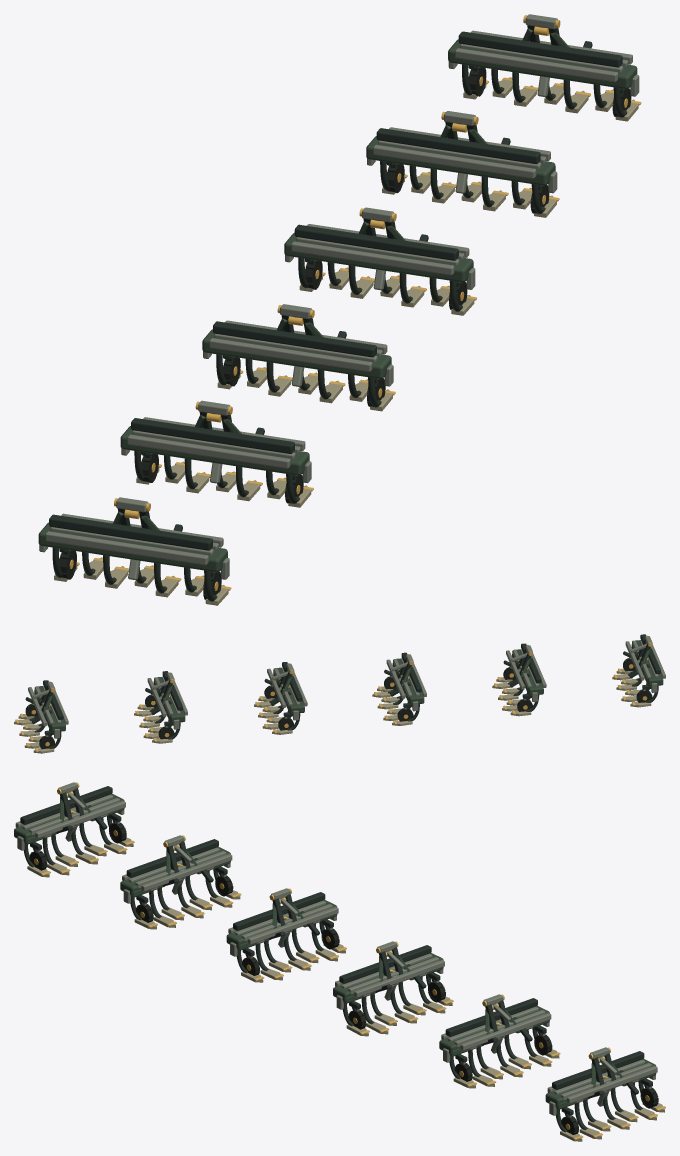
The model's file is audit-hf-cultivator-compact-work-side.glb.
3 renders of one model, top to bottom at view 1: azimuth 30°, elevation 25°; view 2: azimuth 150°, elevation 25°; view 3: azimuth 270°, elevation 25°, orthographic. The views are drawn at different scales.
Parts seen in each view (by area): view 1: cultivatorToolbar (×6), toolbarCrossRail1 (×6), cultivatorFrame (×6); view 2: cultivatorFrame (×6), toolbarCrossRail4 (×6), cultivatorToolbar (×6); view 3: cultivatorToolbar (×6), toolbarCrossRail4 (×6).
Part boxes in pixels (<box>): cultivatorToolbar (×6): <box>49,31,622,550</box>; toolbarCrossRail1 (×6): <box>45,48,617,565</box>; cultivatorFrame (×6): <box>38,39,637,572</box>; cultivatorFrame (×6): <box>34,640,663,731</box>; toolbarCrossRail4 (×6): <box>28,641,644,726</box>; cultivatorToolbar (×6): <box>43,634,660,719</box>; cultivatorToolbar (×6): <box>20,786,644,1089</box>; toolbarCrossRail4 (×6): <box>35,801,657,1103</box>.
Size of what is drawn, in the model's own units: 17.3 by 1.71 by 15.27.
